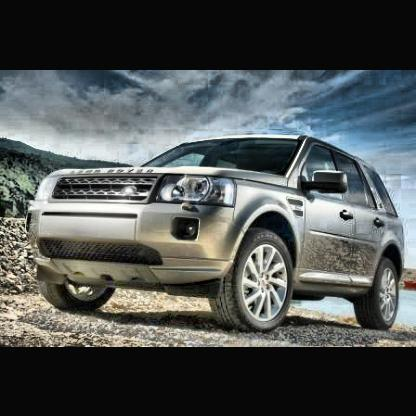Land Rover LR2 SUV 2012: (27, 133, 411, 336)
